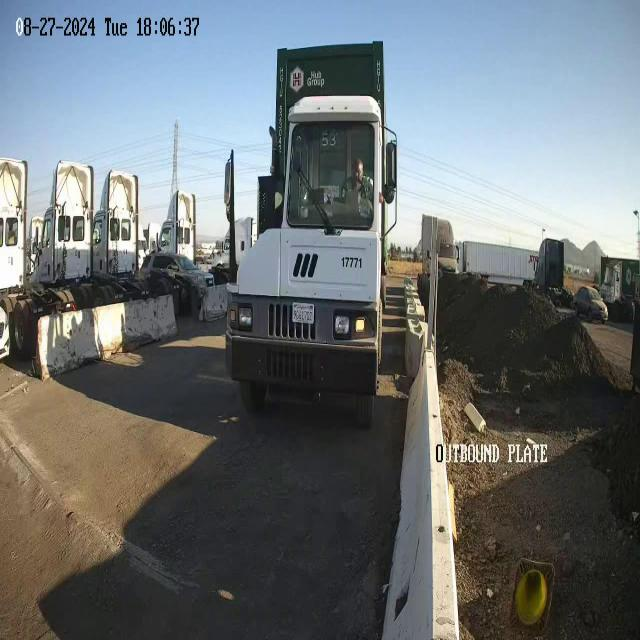CONTAINER: (271, 43, 392, 297)
